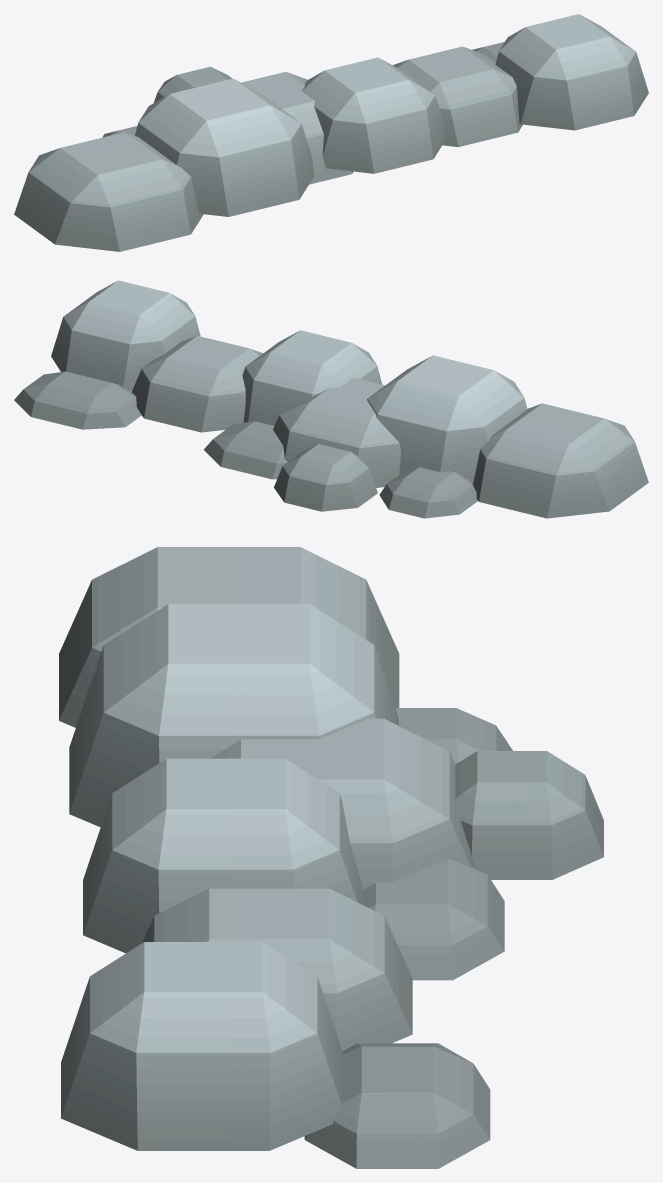
The model's file is rocks.fbx.
3 views of the same model, one above another, from view 1: azimuth 30°, elevation 25°; view 2: azimuth 150°, elevation 25°; view 3: azimuth 270°, elevation 25° (orthographic). The views are drawn at different scales.
Parts seen in each view (by area): view 1: Env_Rocks_02; view 2: Env_Rocks_02; view 3: Env_Rocks_02.
Boxes of the visible parts, x1=… form: Env_Rocks_02: x1=14, y1=14, x2=648, y2=251; Env_Rocks_02: x1=14, y1=280, x2=648, y2=518; Env_Rocks_02: x1=59, y1=547, x2=603, y2=1168.
Size of the model in its own units: 673 by 91.93 by 280.
